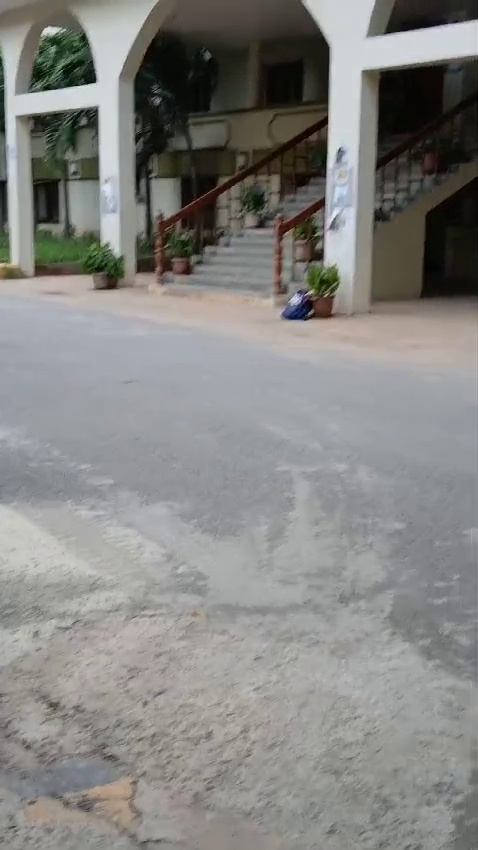bag: (281, 282, 319, 322)
